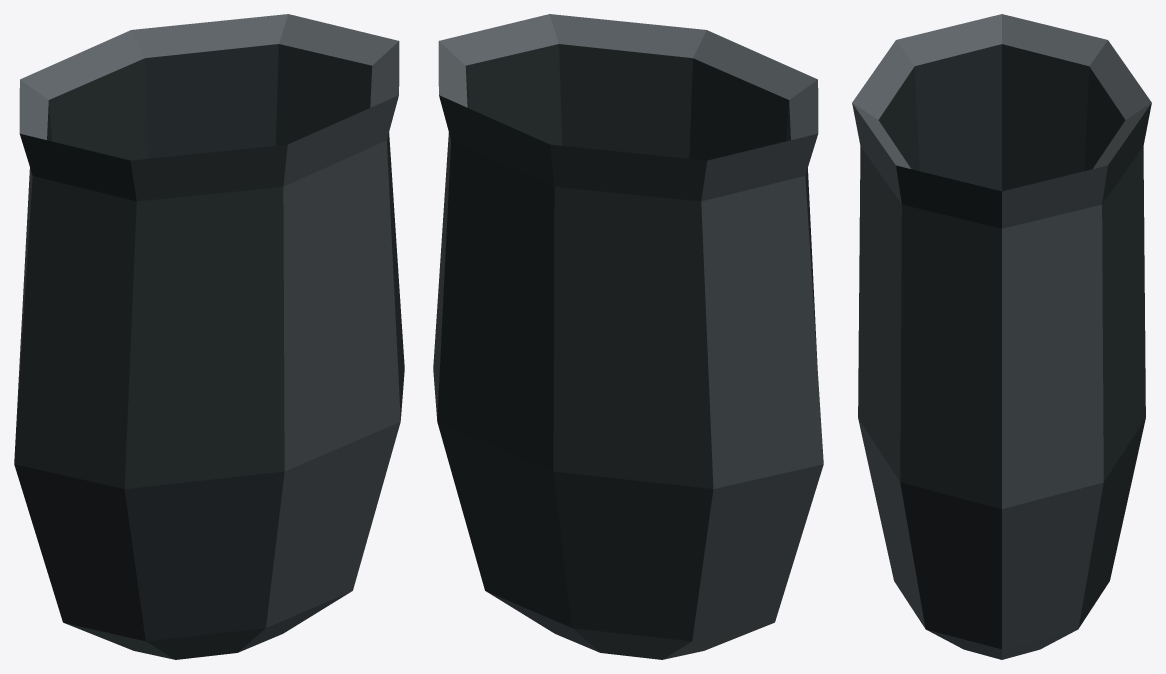
File: lwf_steward_bin_bag_v1.glb
The picture shows the model from 3 angles, left to right: view 1: azimuth 30°, elevation 25°; view 2: azimuth 150°, elevation 25°; view 3: azimuth 270°, elevation 25°; orthographic projection. The views are drawn at different scales.
Visible parts, largest first — view 1: BagMesh; view 2: BagMesh; view 3: BagMesh.
Part boxes in pixels (x1,y1,x2,y2): BagMesh: (14, 14, 404, 659); BagMesh: (433, 14, 823, 659); BagMesh: (852, 14, 1151, 659).
Size of the model in its own units: 0.36 by 0.48 by 0.25.
Materials: 1 (1 with a texture image).
